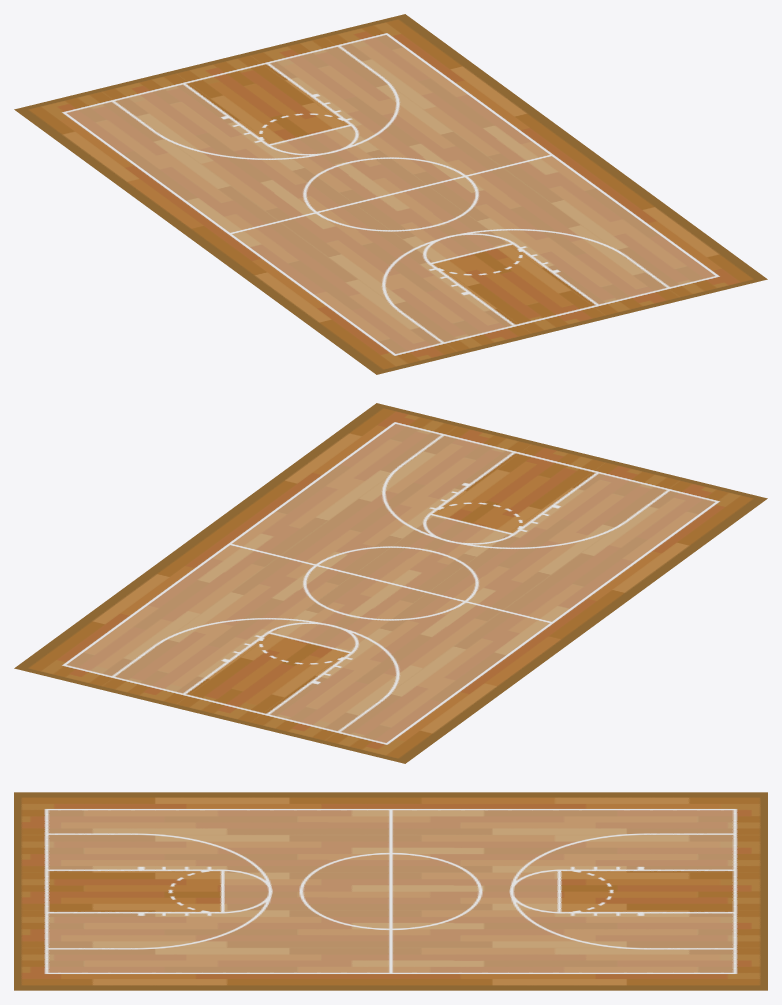
Rendered from bbcourt_final.glb.
3 views of the same model, one above another, from view 1: azimuth 30°, elevation 25°; view 2: azimuth 150°, elevation 25°; view 3: azimuth 270°, elevation 25° (orthographic). The views are drawn at different scales.
Parts seen in each view (by area): view 1: Plane; view 2: Plane; view 3: Plane.
Boxes of the visible parts, <box> form: Plane: <box>14,14,767,374</box>; Plane: <box>14,403,767,763</box>; Plane: <box>14,792,767,990</box>.
Size of the model in its own units: 2.06 by 0 by 3.31.
1 material, 1 textured.
